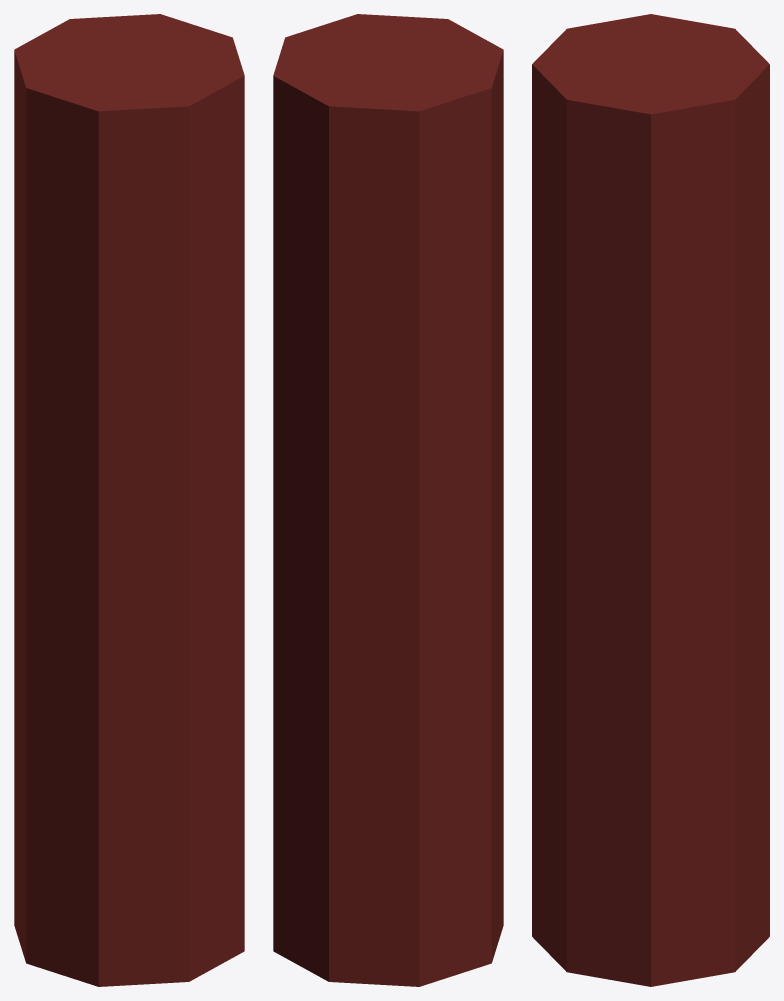
The model's file is TreePlaceholderblend2.fbx.
3 renders of one model, left to right at view 1: azimuth 30°, elevation 25°; view 2: azimuth 150°, elevation 25°; view 3: azimuth 270°, elevation 25°, orthographic.
Parts seen in each view (by area): view 1: Cylinder; view 2: Cylinder; view 3: Cylinder.
Boxes of the visible parts, <box> form: Cylinder: <box>14,14,244,986</box>; Cylinder: <box>273,14,503,986</box>; Cylinder: <box>532,14,769,986</box>.
Size of the model in its own units: 200 by 810 by 200.
